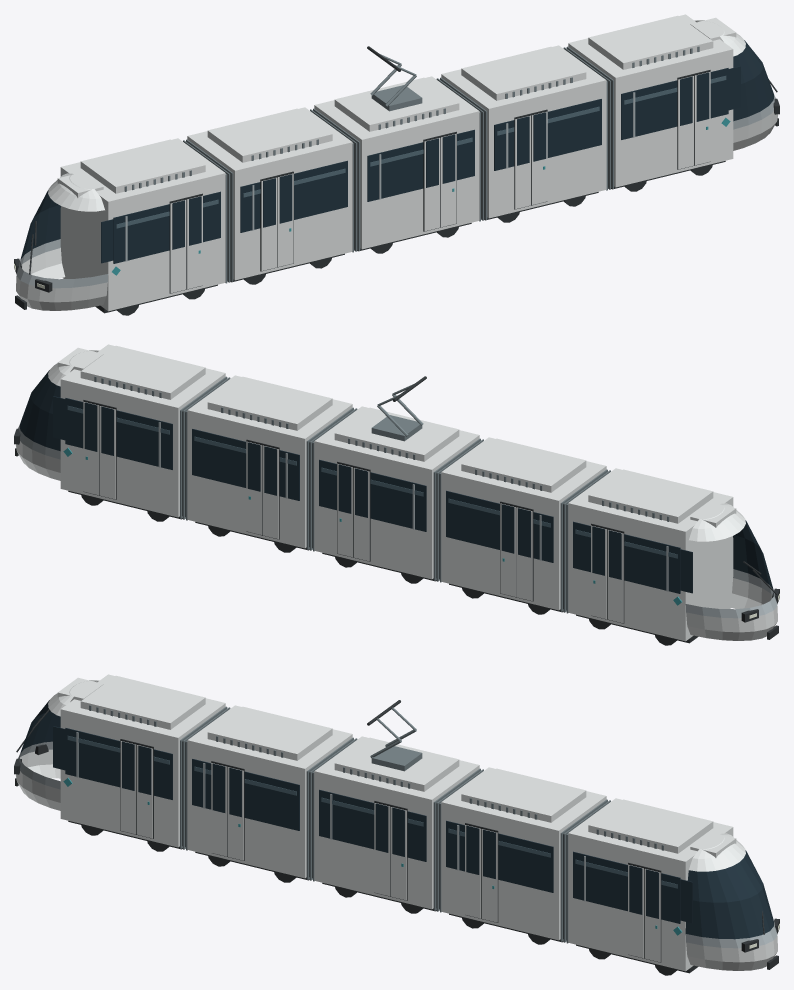
Rendered from tram.glb.
3 renders of one model, top to bottom at view 1: azimuth 30°, elevation 25°; view 2: azimuth 150°, elevation 25°; view 3: azimuth 330°, elevation 25°, orthographic.
Parts seen in each view (by area): view 1: white low floor shell, white low floor shell.001, white low floor shell.002, white low floor shell.003, white low floor shell.004, roof equipment fairing.004, roof equipment fairing.001, roof equipment fairing.003, roof equipment fairing, continuous dark window band, continuous dark window band.002, continuous dark window band.008 (+40 smaller); view 2: white low floor shell, white low floor shell.001, white low floor shell.002, white low floor shell.003, white low floor shell.004, roof equipment fairing.004, roof equipment fairing.001, roof equipment fairing.003, roof equipment fairing, continuous dark window band.001, continuous dark window band.003, continuous dark window band.009 (+40 smaller); view 3: white low floor shell.002, white low floor shell.003, white low floor shell.001, white low floor shell, white low floor shell.004, roof equipment fairing.001, roof equipment fairing, roof equipment fairing.003, roof equipment fairing.004, continuous dark window band.004, continuous dark window band.002, continuous dark window band (+42 smaller).
Part boxes in pixels (x1,y1,x2,y2): white low floor shell: (60,138,225,311); white low floor shell.001: (187,107,352,280); white low floor shell.002: (314,76,479,249); white low floor shell.003: (441,45,606,218); white low floor shell.004: (568,14,733,187); roof equipment fairing.004: (588,15,713,69); roof equipment fairing.001: (207,108,332,162); roof equipment fairing.003: (461,46,586,100); roof equipment fairing: (80,139,205,193); continuous dark window band: (113,191,220,263); continuous dark window band.002: (240,160,347,232); continuous dark window band.008: (621,68,728,139); white low floor shell: (568,468,733,641); white low floor shell.001: (441,437,606,610); white low floor shell.002: (314,406,479,579); white low floor shell.003: (187,375,352,548); white low floor shell.004: (60,344,225,517); roof equipment fairing.004: (80,345,205,399); roof equipment fairing.001: (461,438,586,492); roof equipment fairing.003: (207,376,332,430); roof equipment fairing: (588,469,713,523); continuous dark window band.001: (573,521,680,593); continuous dark window band.003: (446,490,553,562); continuous dark window band.009: (65,398,172,469); white low floor shell.002: (314,736,479,909); white low floor shell.003: (441,767,606,940); white low floor shell.001: (187,705,352,878); white low floor shell: (60,674,225,847); white low floor shell.004: (568,798,733,971); roof equipment fairing.001: (207,706,332,760); roof equipment fairing: (80,675,205,729); roof equipment fairing.003: (461,768,586,822); roof equipment fairing.004: (588,799,713,853); continuous dark window band.004: (319,789,426,861); continuous dark window band.002: (192,759,299,830); continuous dark window band: (65,728,172,799).
Bounding box in the file's own units: 14.64 × 3.29 × 1.72.
